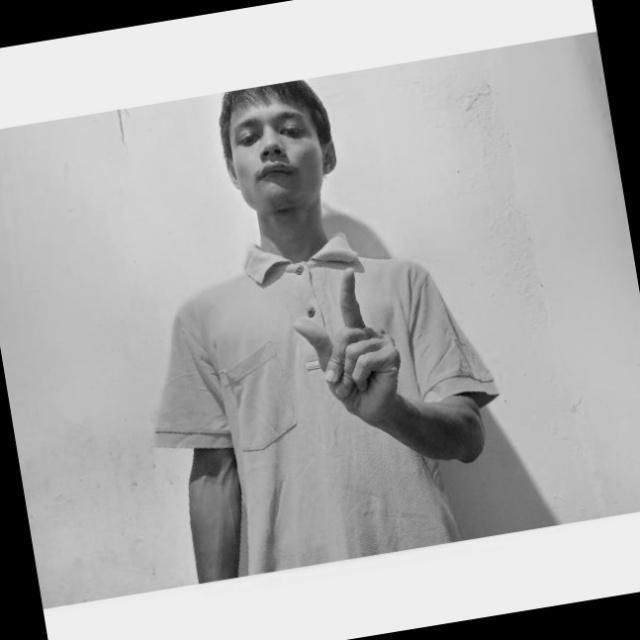R: (280, 261, 410, 417)
